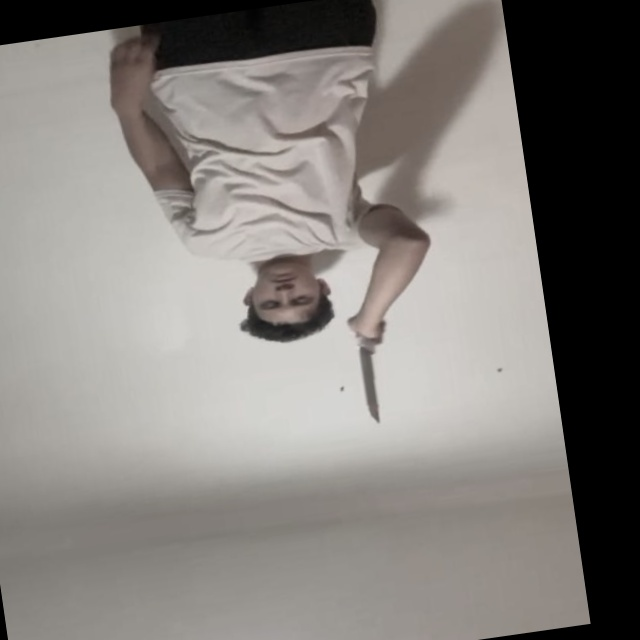Sharp-Object: (354, 342, 383, 425)
